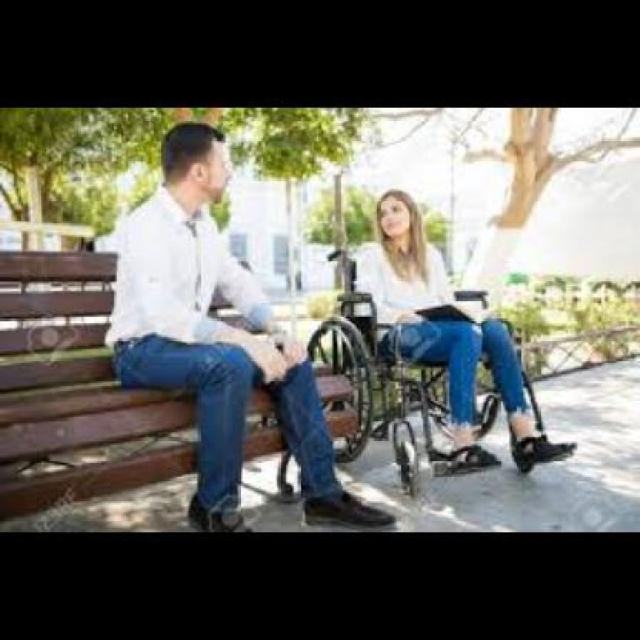wheelchairs: (302, 242, 548, 496)
